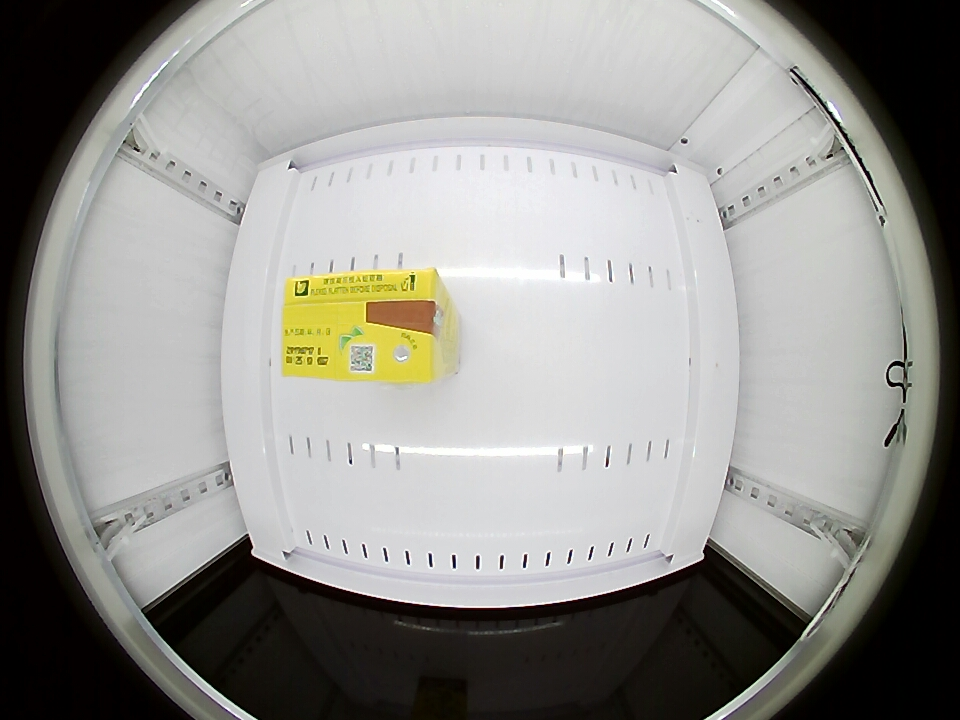weitaningmeng: (281, 270, 451, 382)
